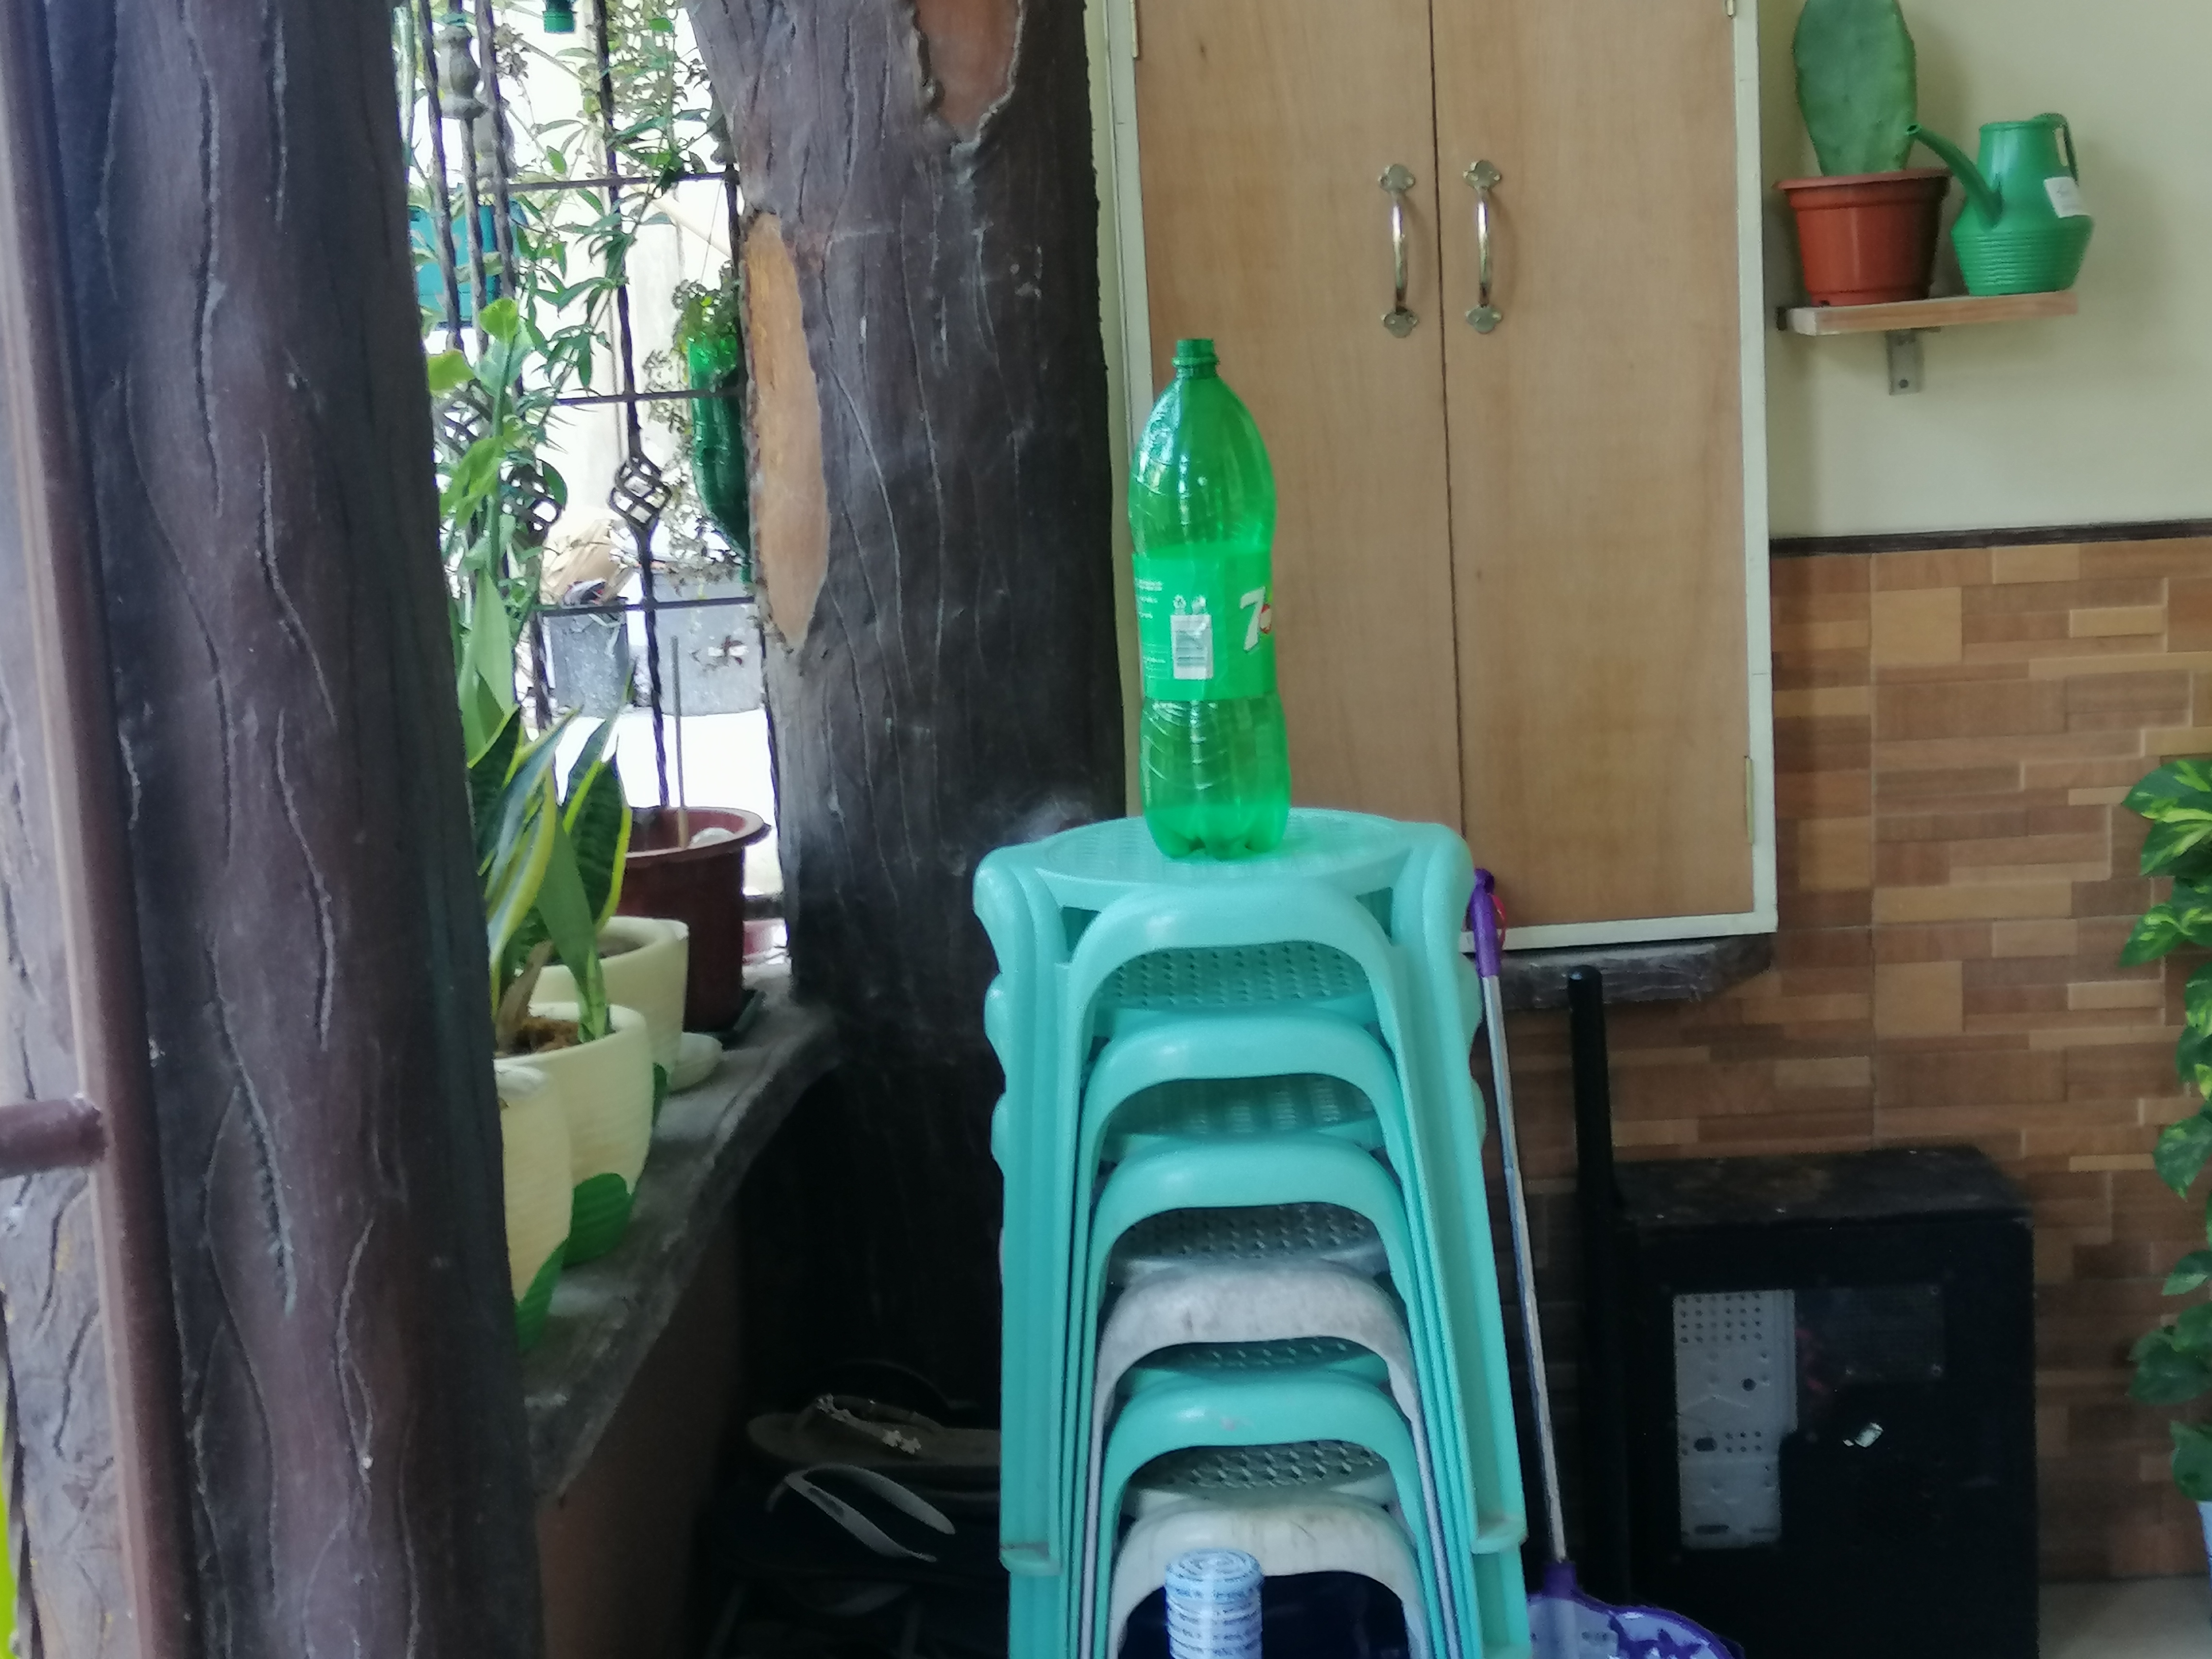bottle: (1129, 338, 1292, 864)
plant: (458, 694, 577, 1370), (1787, 2, 1937, 300)
